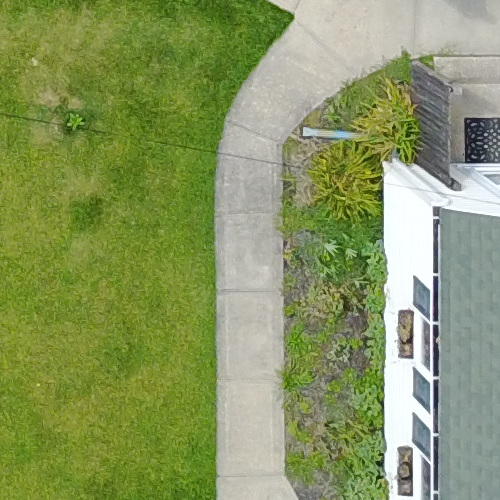gutter: (289, 116, 383, 156)
